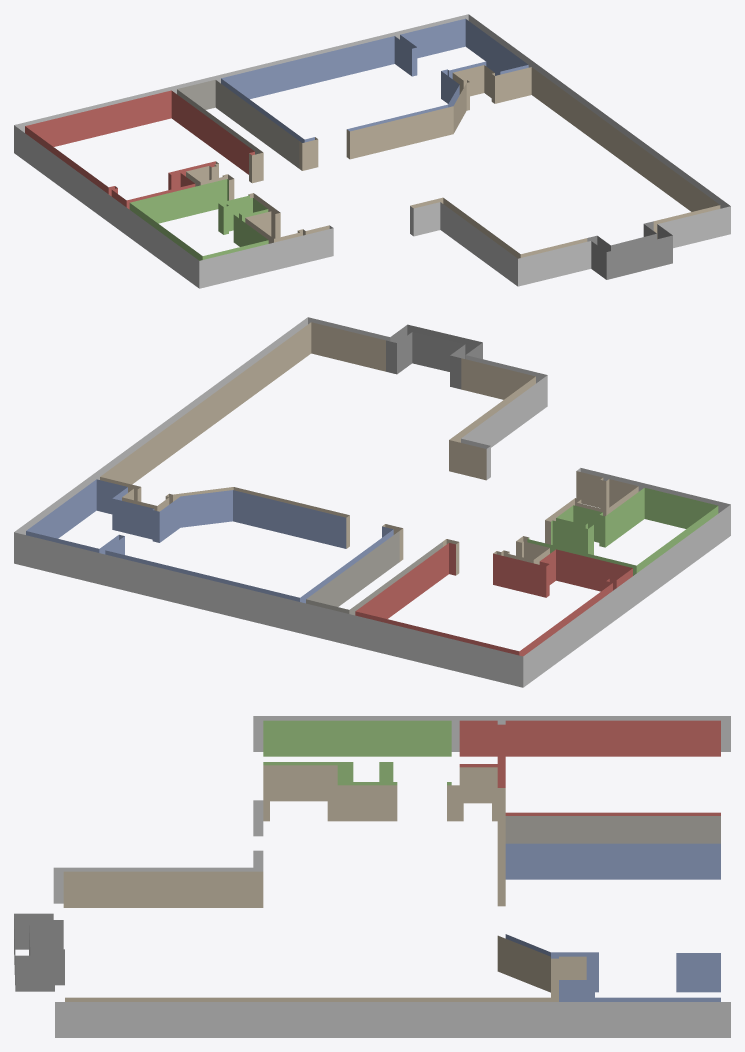
The model's file is house_walls_low.fbx.
3 renders of one model, top to bottom at view 1: azimuth 30°, elevation 25°; view 2: azimuth 150°, elevation 25°; view 3: azimuth 270°, elevation 25°, orthographic. The views are drawn at different scales.
Parts seen in each view (by area): view 1: WallsLow; view 2: WallsLow; view 3: WallsLow.
Part boxes in pixels (bbox=[...]): WallsLow: bbox=[14, 14, 730, 288]; WallsLow: bbox=[14, 317, 730, 687]; WallsLow: bbox=[14, 716, 730, 1037].
Bounding box in the file's own units: 1099 × 60.96 × 1037.
